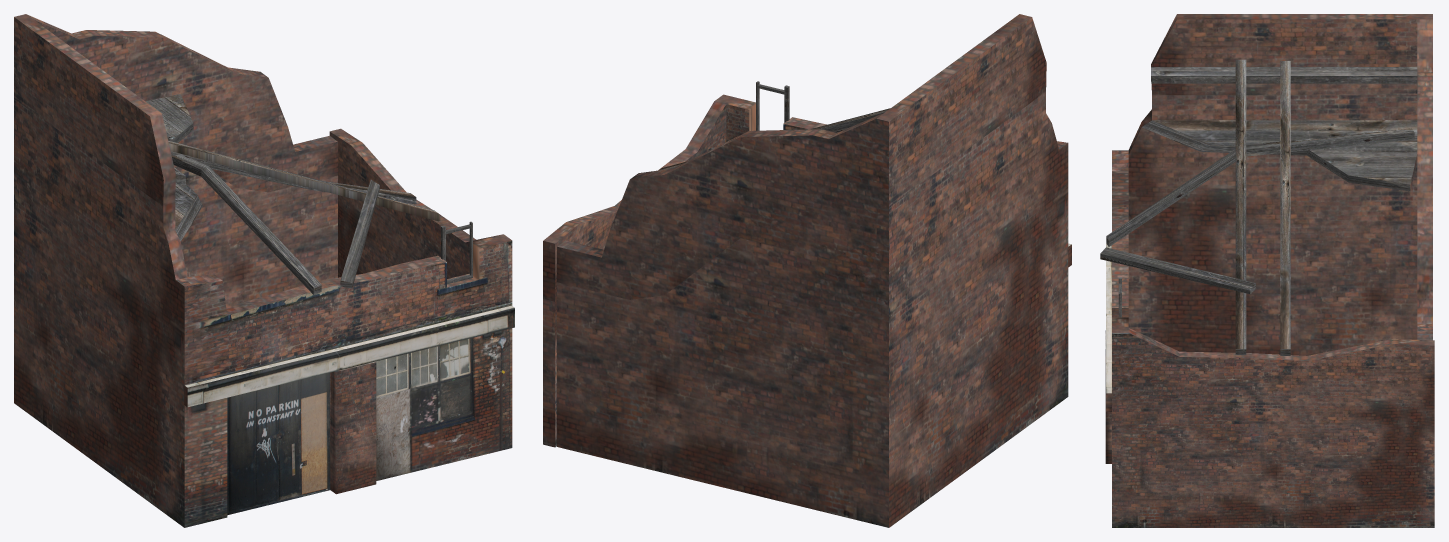
The model's file is war_torn15.obj.
3 views of the same model, side by side, from view 1: azimuth 30°, elevation 25°; view 2: azimuth 150°, elevation 25°; view 3: azimuth 270°, elevation 25° (orthographic). The views are drawn at different scales.
Parts seen in each view (by area): view 1: worn_torn15; view 2: worn_torn15; view 3: worn_torn15.
Boxes of the visible parts, <box> form: worn_torn15: <box>14,14,514,527</box>; worn_torn15: <box>543,14,1071,527</box>; worn_torn15: <box>1100,14,1434,527</box>.
Bounding box in the file's own units: 373 × 419 × 350.
1 material, 1 textured.
